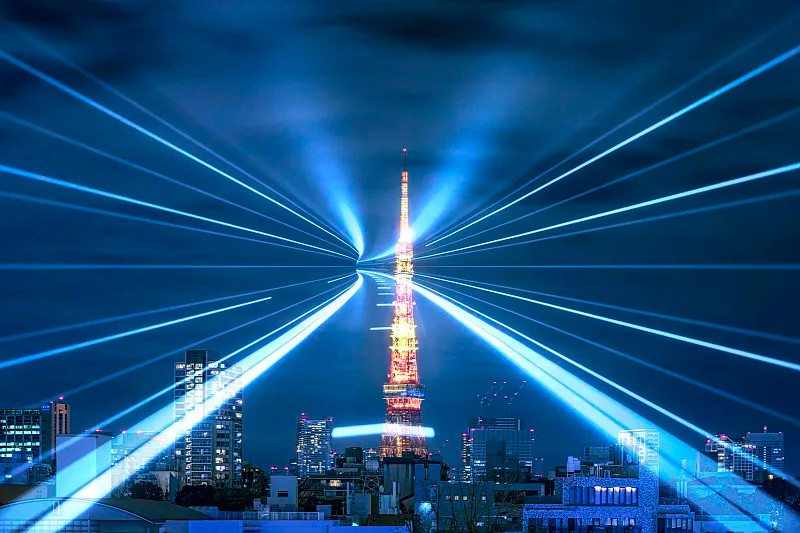Tokyo: (378, 147, 431, 458)
